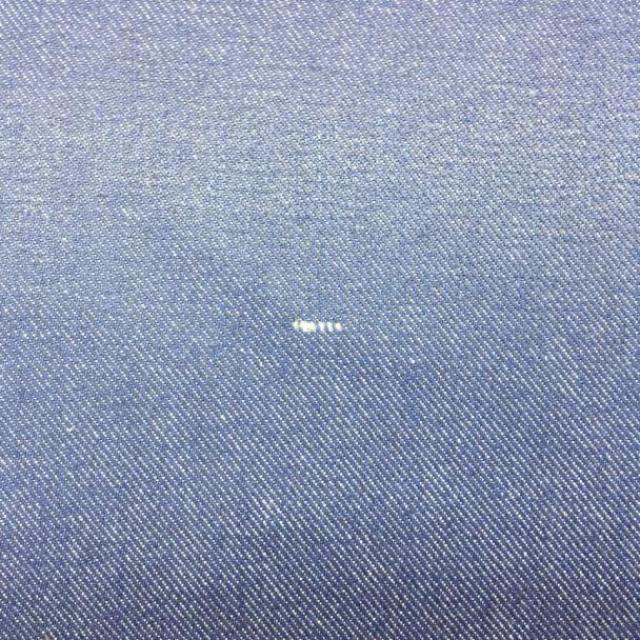Knot: (292, 320, 344, 333)
